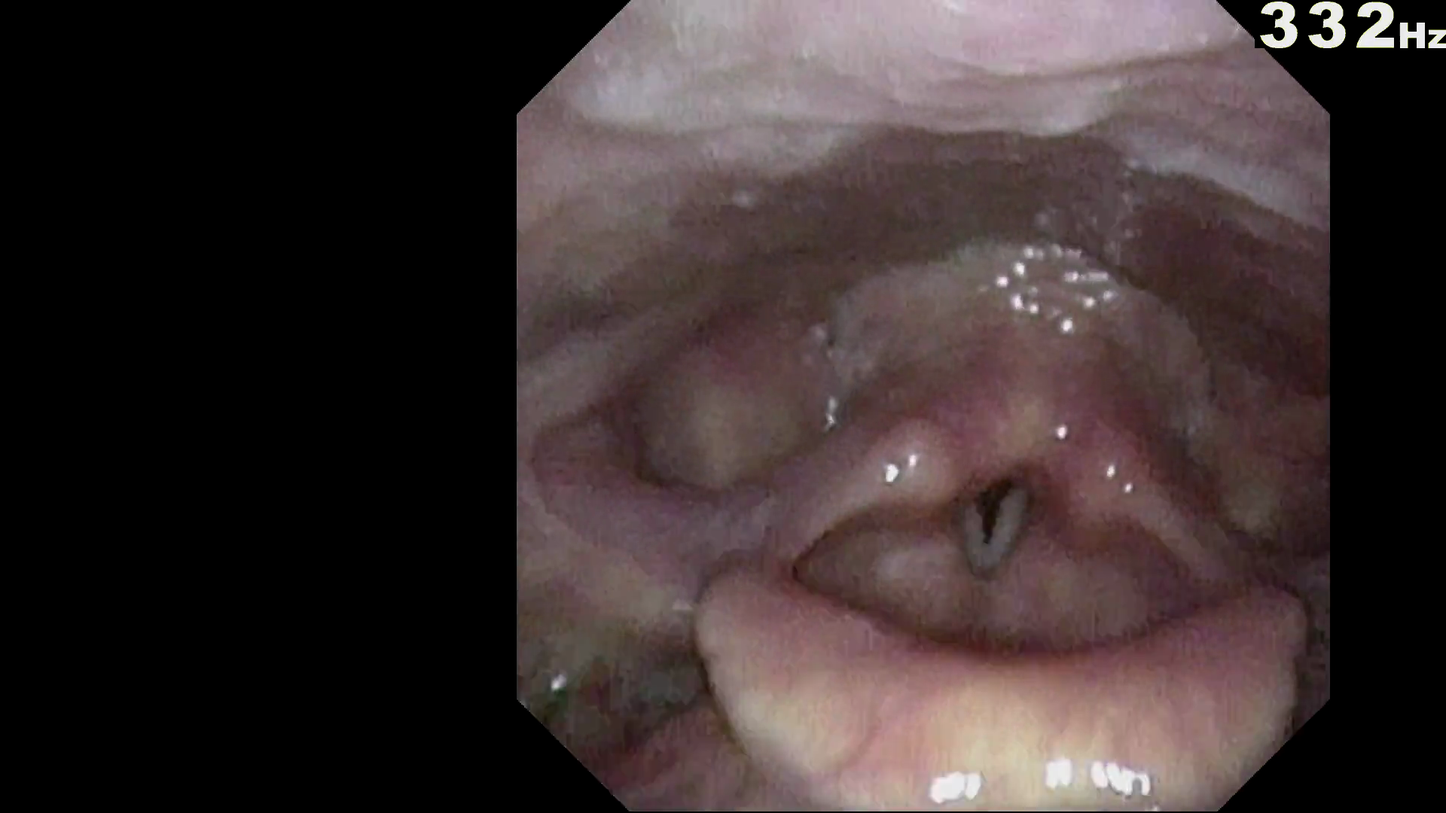epiglottis: (687, 505, 1310, 745)
trachea: (928, 420, 1080, 599)
